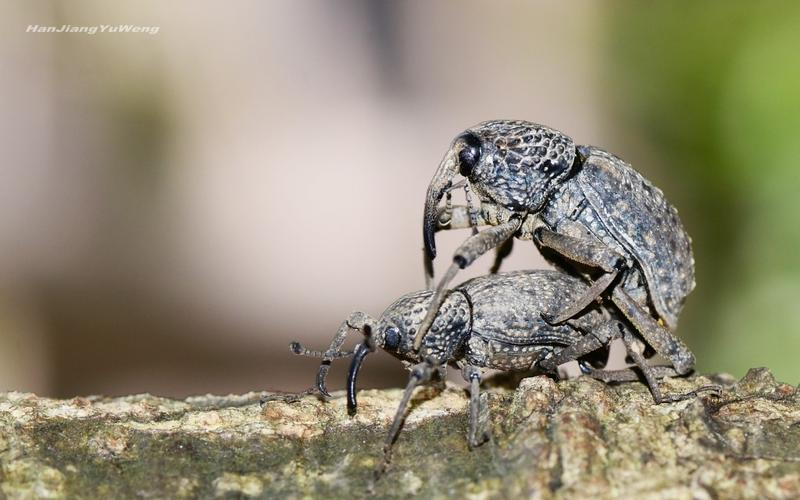Curculionidae: (287, 268, 725, 480), (422, 117, 697, 385)
